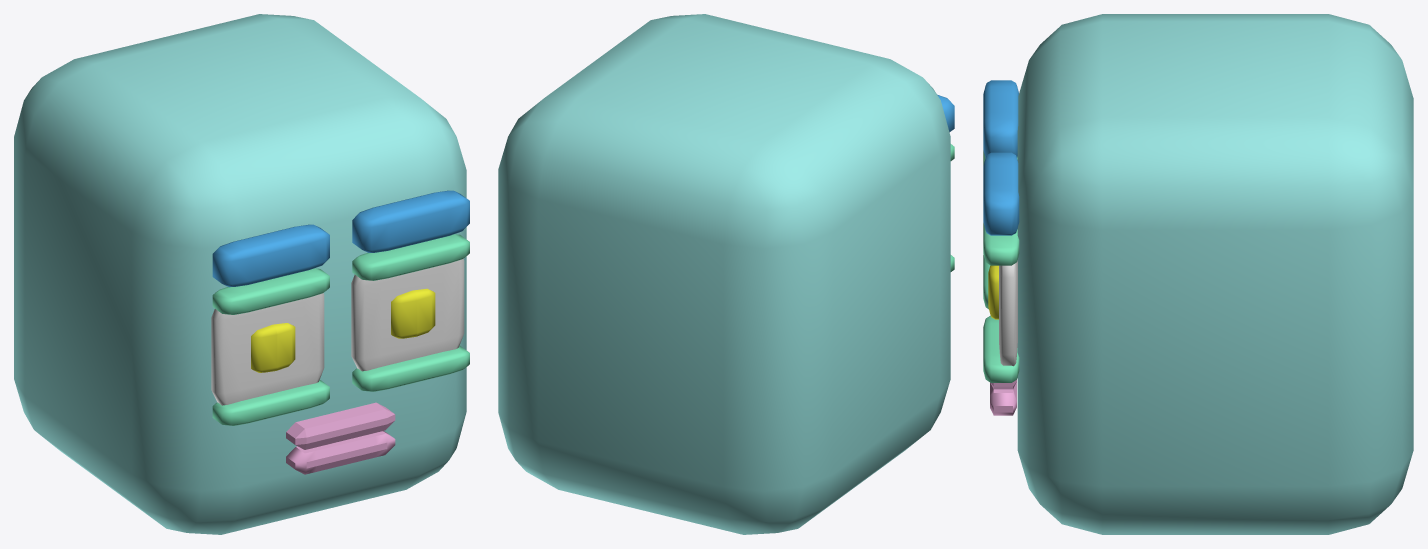
Rendered from robot2.glb.
3 renders of one model, left to right at view 1: azimuth 30°, elevation 25°; view 2: azimuth 150°, elevation 25°; view 3: azimuth 270°, elevation 25°, orthographic. The views are drawn at different scales.
Visible parts, largest first — view 1: Cube; view 2: Cube; view 3: Cube.
Boxes of the visible parts, <box> form: Cube: <box>14,14,469,534</box>; Cube: <box>498,14,954,534</box>; Cube: <box>983,14,1413,534</box>.
Size of the model in its own units: 0.7 by 0.8 by 0.7606.
